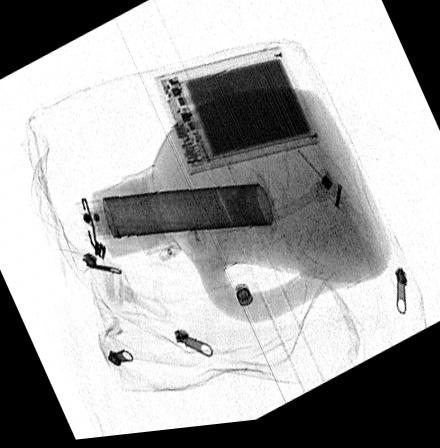Powerbank: (151, 50, 321, 176)
